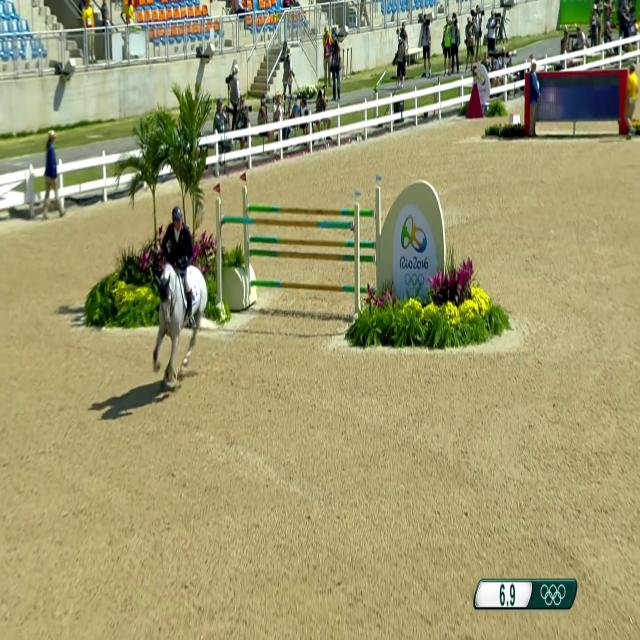Horse Running: (145, 200, 222, 416)
